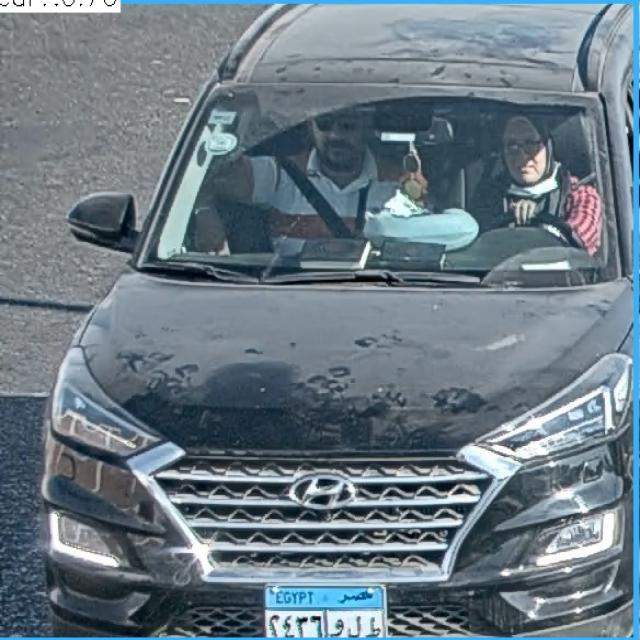windshield: (144, 88, 617, 275)
